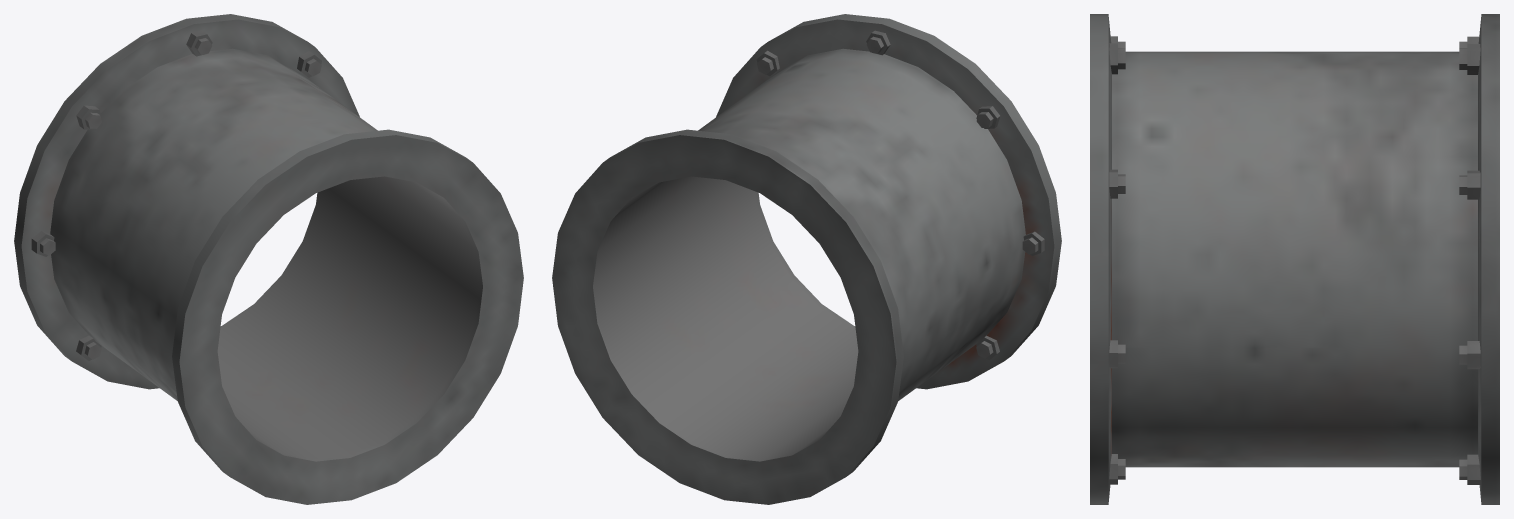
File: pipe_straight_converted.fbx
3 renders of one model, left to right at view 1: azimuth 30°, elevation 25°; view 2: azimuth 150°, elevation 25°; view 3: azimuth 270°, elevation 25°, orthographic. The views are drawn at different scales.
Parts seen in each view (by area): view 1: Pipe_Straight1_ModularPipes_Large_0; view 2: Pipe_Straight1_ModularPipes_Large_0; view 3: Pipe_Straight1_ModularPipes_Large_0.
Boxes of the visible parts, x1=… form: Pipe_Straight1_ModularPipes_Large_0: x1=14, y1=14, x2=523, y2=504; Pipe_Straight1_ModularPipes_Large_0: x1=552, y1=14, x2=1061, y2=504; Pipe_Straight1_ModularPipes_Large_0: x1=1090, y1=14, x2=1499, y2=504.
Size of the model in its own units: 2.39 by 2.39 by 1.99.
Materials: 1 (1 with a texture image).
